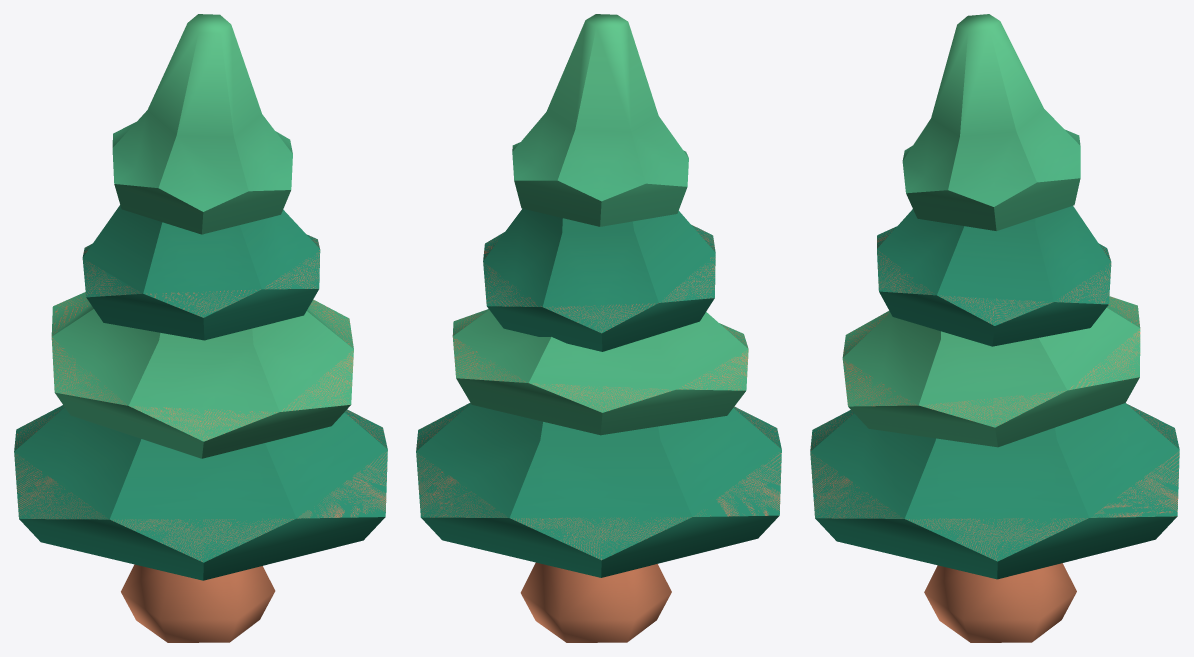
The model's file is pine-crooked.009_lev3.glb.
3 views of the same model, side by side, from view 1: azimuth 30°, elevation 25°; view 2: azimuth 150°, elevation 25°; view 3: azimuth 270°, elevation 25° (orthographic). The views are drawn at different scales.
Parts seen in each view (by area): view 1: pine-crooked.009_lev3; view 2: pine-crooked.009_lev3; view 3: pine-crooked.009_lev3.
Boxes of the visible parts, bbox=[...] form: pine-crooked.009_lev3: bbox=[14, 14, 387, 642]; pine-crooked.009_lev3: bbox=[416, 14, 781, 642]; pine-crooked.009_lev3: bbox=[810, 14, 1179, 642].
Bounding box in the file's own units: 16.01 × 25.3 × 14.13.
1 material, 1 textured.
